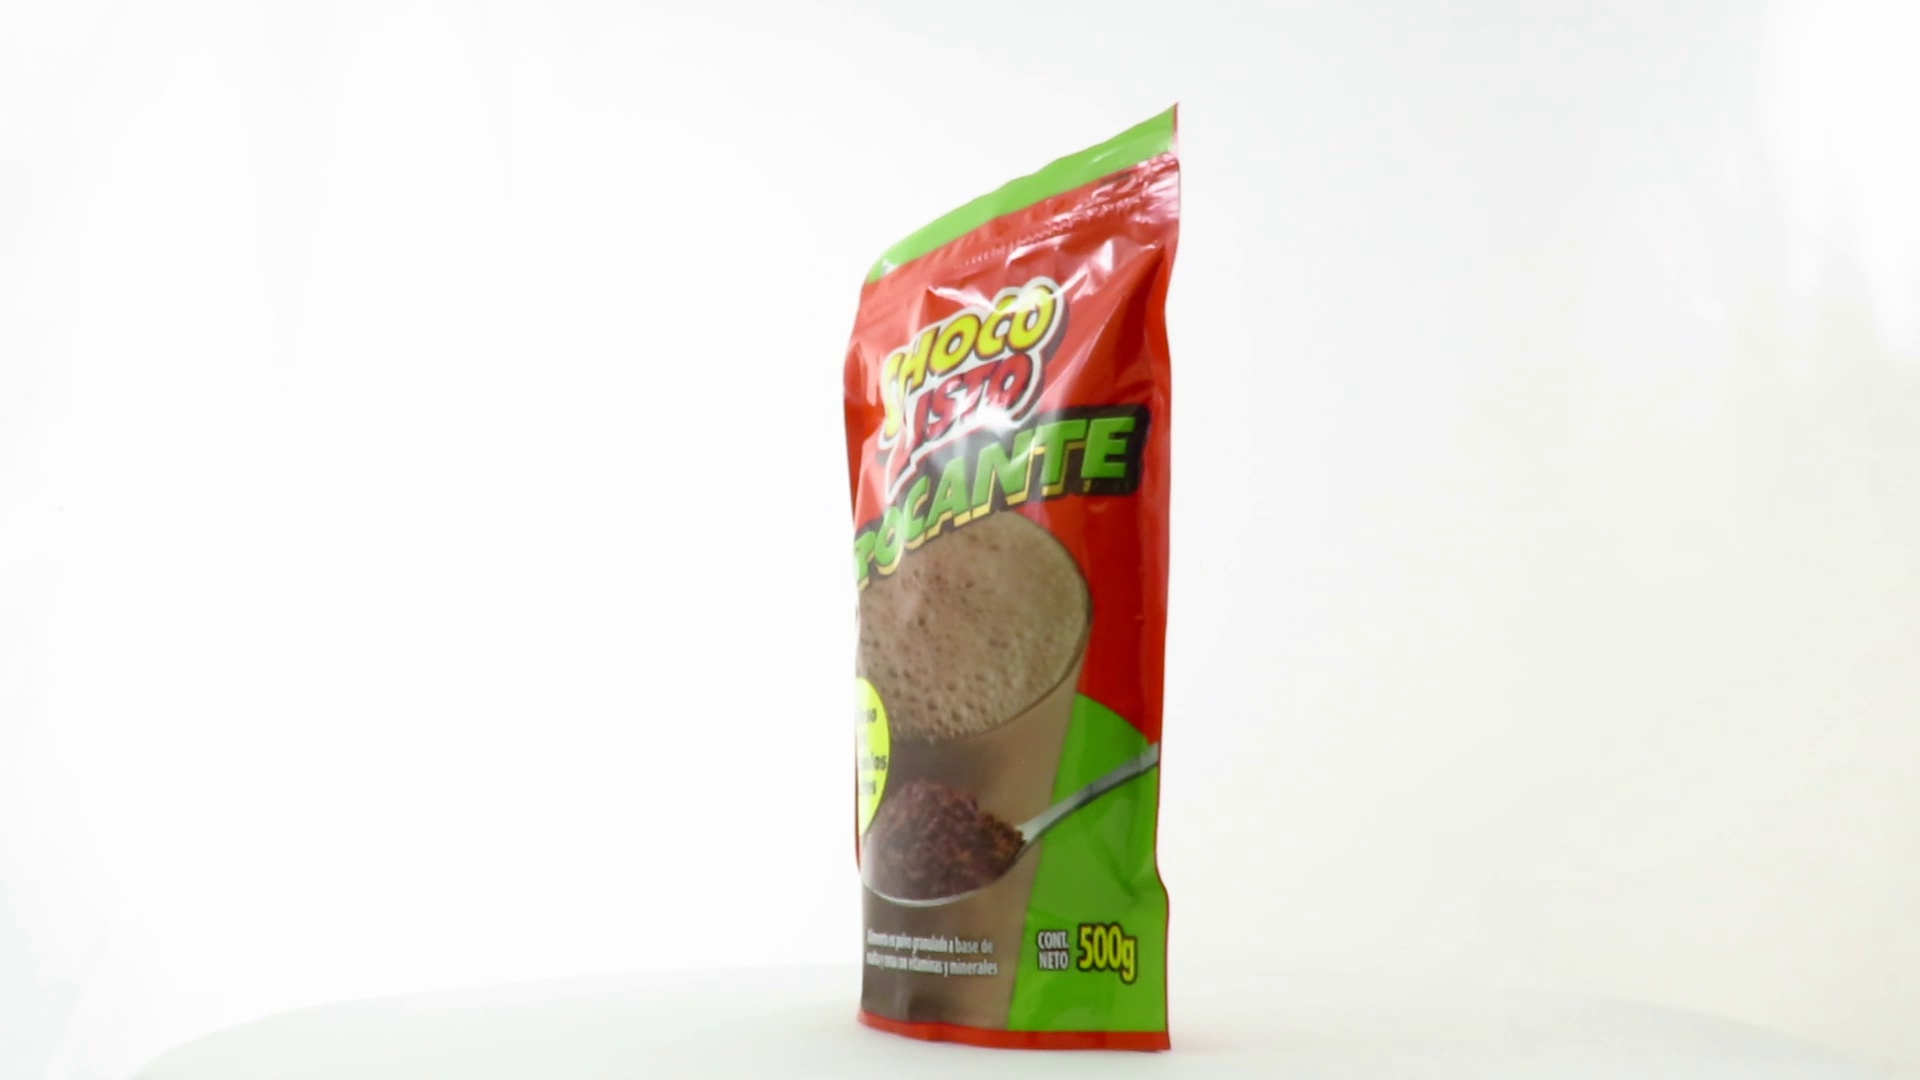COL0170102DYP50000: (837, 98, 1187, 1060)
